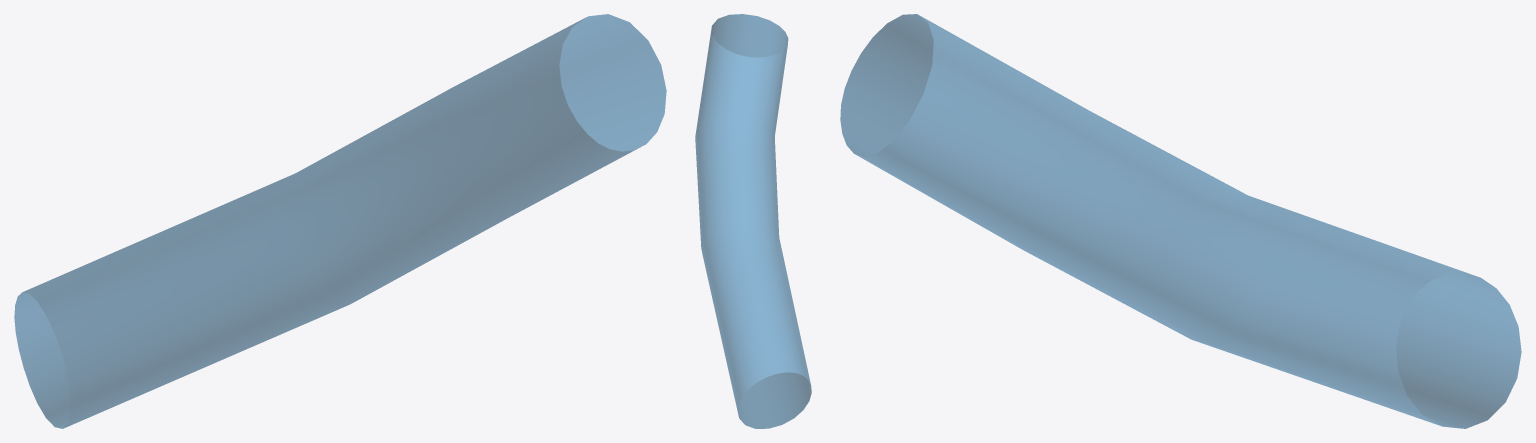
The model's file is lacY_holder.glb.
The picture shows the model from 3 angles, left to right: view 1: azimuth 30°, elevation 25°; view 2: azimuth 150°, elevation 25°; view 3: azimuth 270°, elevation 25°; orthographic projection. The views are drawn at different scales.
Visible parts, largest first — view 1: lacY; view 2: lacY; view 3: lacY.
Part boxes in pixels (x1=…): lacY: x1=14, y1=14, x2=666, y2=428; lacY: x1=695, y1=14, x2=811, y2=428; lacY: x1=840, y1=14, x2=1521, y2=428.
Bounding box in the file's own units: 0.3086 × 0.3676 × 0.4094.
1 material, 1 textured.
